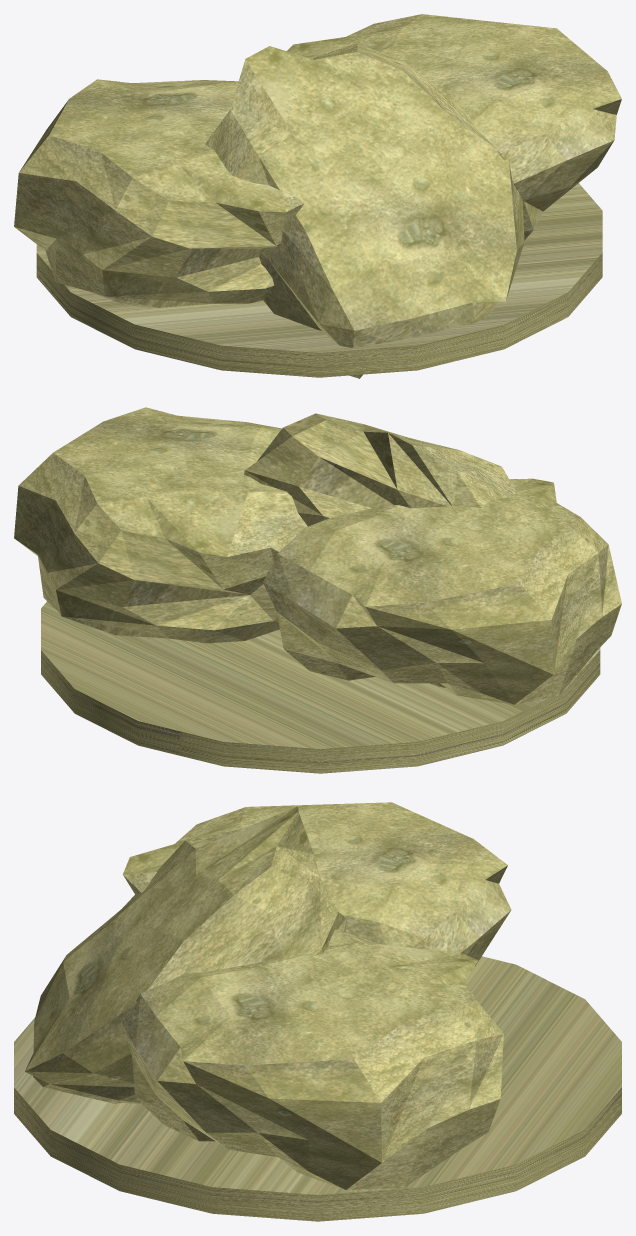
Rendered from yellowStones.FBX.
The picture shows the model from 3 angles, top to bottom: view 1: azimuth 30°, elevation 25°; view 2: azimuth 150°, elevation 25°; view 3: azimuth 270°, elevation 25°; orthographic projection. The views are drawn at different scales.
Visible parts, largest first — view 1: Cylinder001; view 2: Cylinder001; view 3: Cylinder001.
Part boxes in pixels (<box>): Cylinder001: <box>14,14,621,378</box>; Cylinder001: <box>14,407,621,773</box>; Cylinder001: <box>14,802,621,1221</box>.
Size of the model in its own units: 55.12 by 49 by 25.32.
Materials: 1 (1 with a texture image).
